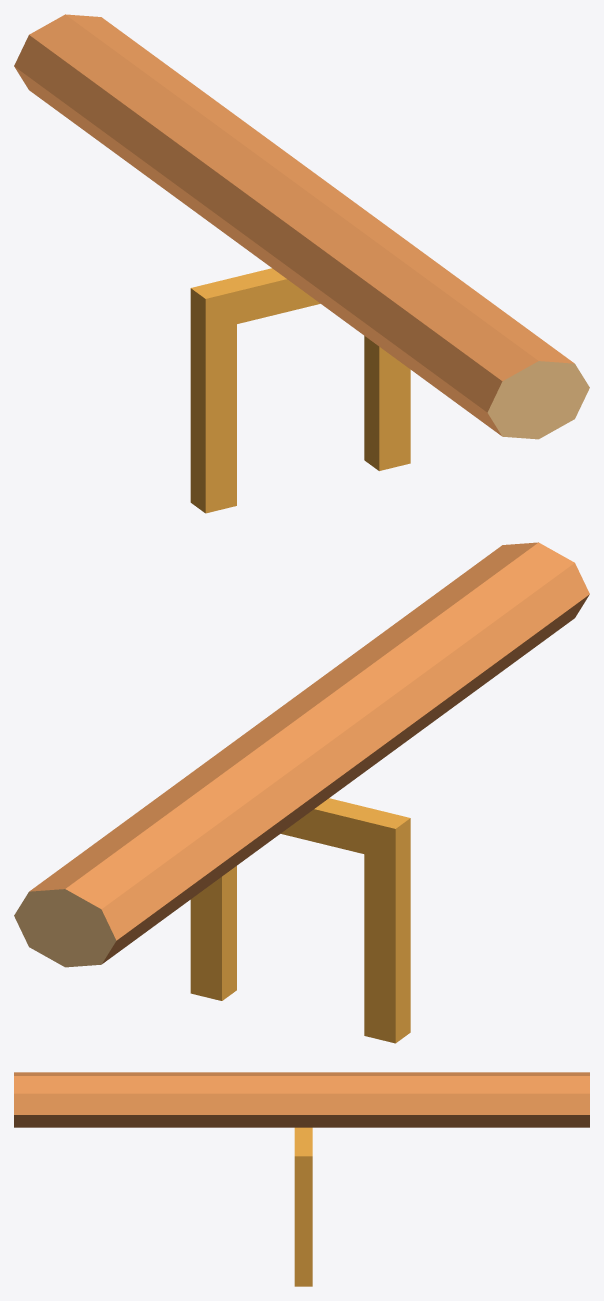
The model's file is tahterevalli.fbx.
3 renders of one model, top to bottom at view 1: azimuth 30°, elevation 25°; view 2: azimuth 150°, elevation 25°; view 3: azimuth 270°, elevation 25°, orthographic. The views are drawn at different scales.
Visible parts, largest first — view 1: Tahterevalli, Sabitleyici; view 2: Tahterevalli, Sabitleyici; view 3: Tahterevalli, Sabitleyici.
Boxes of the visible parts, bbox=[...] form: Tahterevalli: bbox=[14, 14, 589, 439]; Sabitleyici: bbox=[190, 268, 410, 513]; Tahterevalli: bbox=[14, 542, 589, 967]; Sabitleyici: bbox=[190, 798, 410, 1043]; Tahterevalli: bbox=[14, 1072, 589, 1127]; Sabitleyici: bbox=[294, 1127, 312, 1286].
Size of the model in its own units: 200 by 276 by 800.
